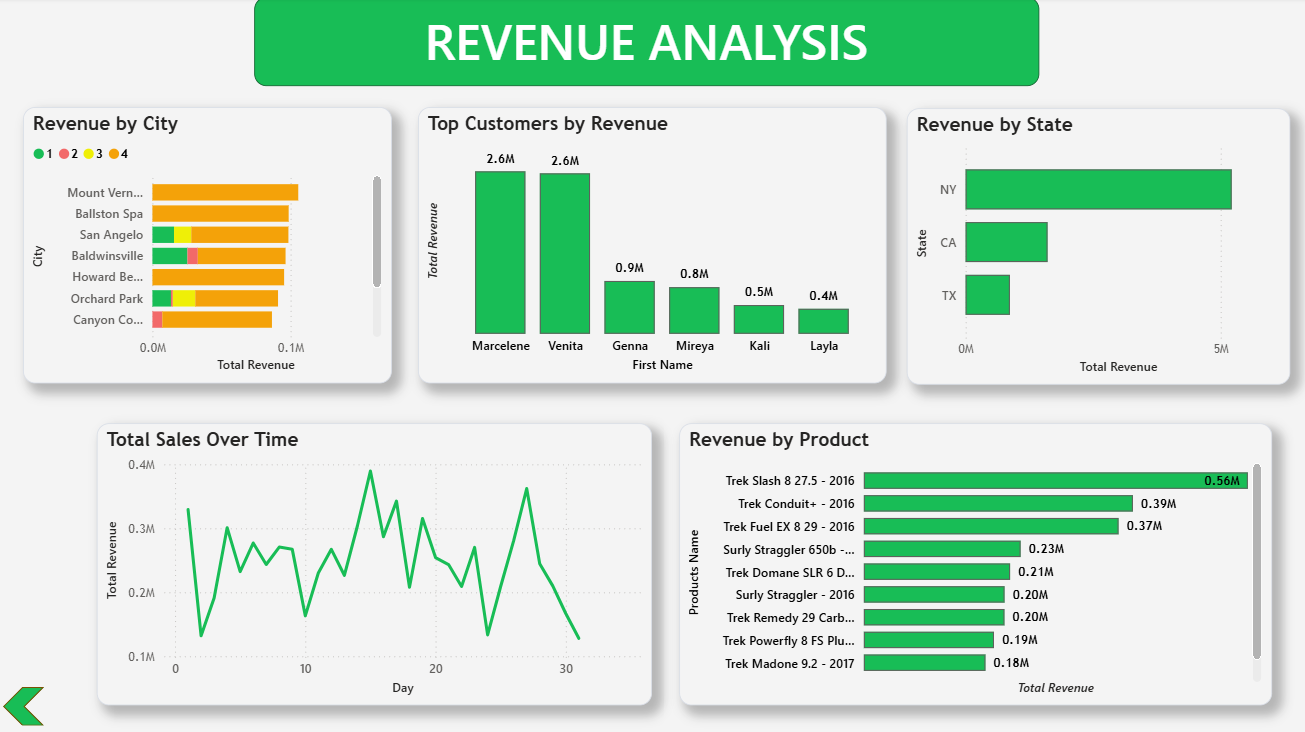

The page's visual inventory and layout, read from the dashboard file:
{"tool":"powerbi","page":{"name":"Revenue Analysis","canvas":[1280,720],"ordinal":1},"visuals":[{"type":"barChart","title":"Revenue by City","fields":{"Category":["retail_sales customers.city"],"Y":["Sum(retail_sales order_items.total_price)"],"Series":["retail_sales orders.order_status"]},"box":[24.5,107.6,360.7,270.2],"z":0},{"type":"clusteredColumnChart","title":"Top Customers by Revenue","fields":{"Category":["retail_sales staffs.first_name"],"Y":["Sum(retail_sales order_items.total_price)"]},"box":[410.9,107.6,458.6,270.2],"z":1000},{"type":"lineChart","title":"Total Sales Over Time","fields":{"Y":["Sum(retail_sales order_items.total_price)"],"Category":["retail_sales orders.order_date.Variation.Date Hierarchy.Day"]},"box":[96.6,417,542.9,276.4],"z":2000},{"type":"clusteredBarChart","title":"Revenue by State","fields":{"Category":["retail_sales stores.state"],"Y":["Sum(retail_sales order_items.total_price)"]},"box":[889,108.8,375.4,270.2],"z":3000},{"type":"shape","box":[4.9,675,40.4,37.9],"z":4000},{"type":"clusteredBarChart","title":"Revenue by Product","fields":{"Category":["retail_sales order_items.Product_name"],"Y":["Sum(retail_sales order_items.total_price)"]},"box":[666.4,417,579.6,276.4],"z":5000},{"type":"textbox","box":[250.7,0,767.9,86.8],"z":6000}]}

Visuals, with their boxes in screenshot pixels (x1, y1, x2, y2), scaled from the page's 1280x720 canvas onto the 1305x732 screenshot:
"Revenue by City" barChart: left=25, top=109, right=393, bottom=384
"Top Customers by Revenue" clusteredColumnChart: left=419, top=109, right=886, bottom=384
"Total Sales Over Time" lineChart: left=98, top=424, right=652, bottom=705
"Revenue by State" clusteredBarChart: left=906, top=111, right=1289, bottom=385
shape: left=5, top=686, right=46, bottom=725
"Revenue by Product" clusteredBarChart: left=679, top=424, right=1270, bottom=705
textbox: left=256, top=0, right=1038, bottom=88
